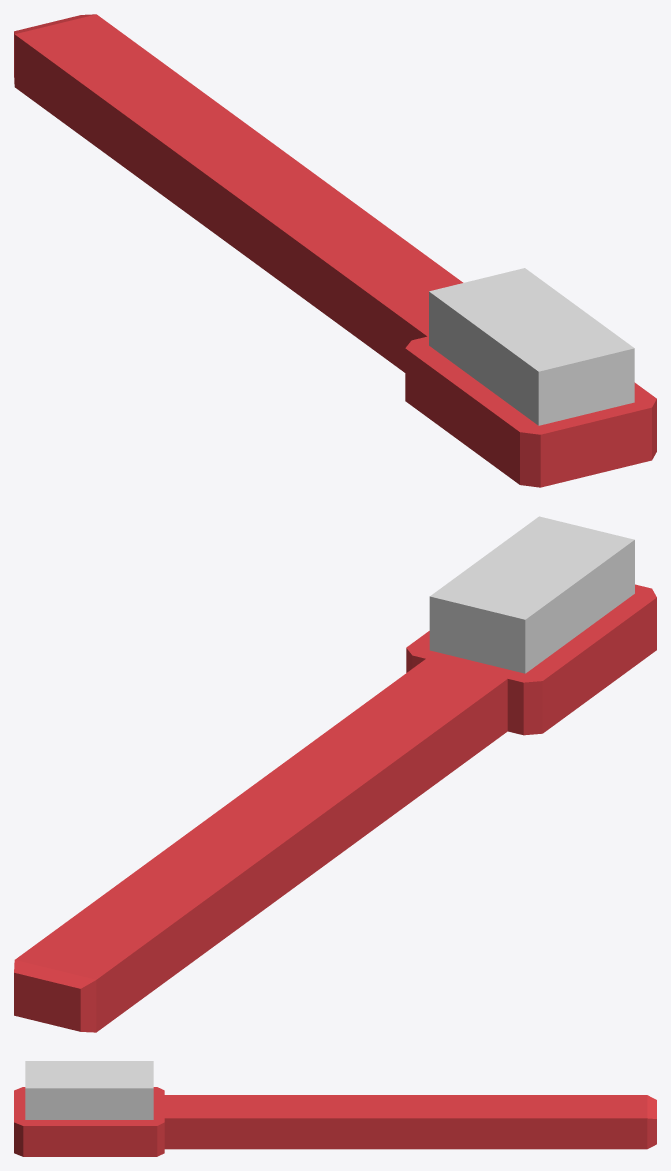
The model's file is sikat gigi.fbx.
3 views of the same model, one above another, from view 1: azimuth 30°, elevation 25°; view 2: azimuth 150°, elevation 25°; view 3: azimuth 270°, elevation 25° (orthographic). The views are drawn at different scales.
Visible parts, largest first — view 1: Cube, Cube.001; view 2: Cube, Cube.001; view 3: Cube, Cube.001.
Boxes of the visible parts, left/top/right/bottom form: Cube: left=14, top=14, right=656, bottom=487; Cube.001: left=429, top=268, right=634, bottom=425; Cube: left=14, top=584, right=656, bottom=1032; Cube.001: left=429, top=516, right=634, bottom=673; Cube: left=14, top=1087, right=656, bottom=1156; Cube.001: left=25, top=1061, right=153, bottom=1119.
Bounding box in the file's own units: 76.67 × 57.21 × 533.
